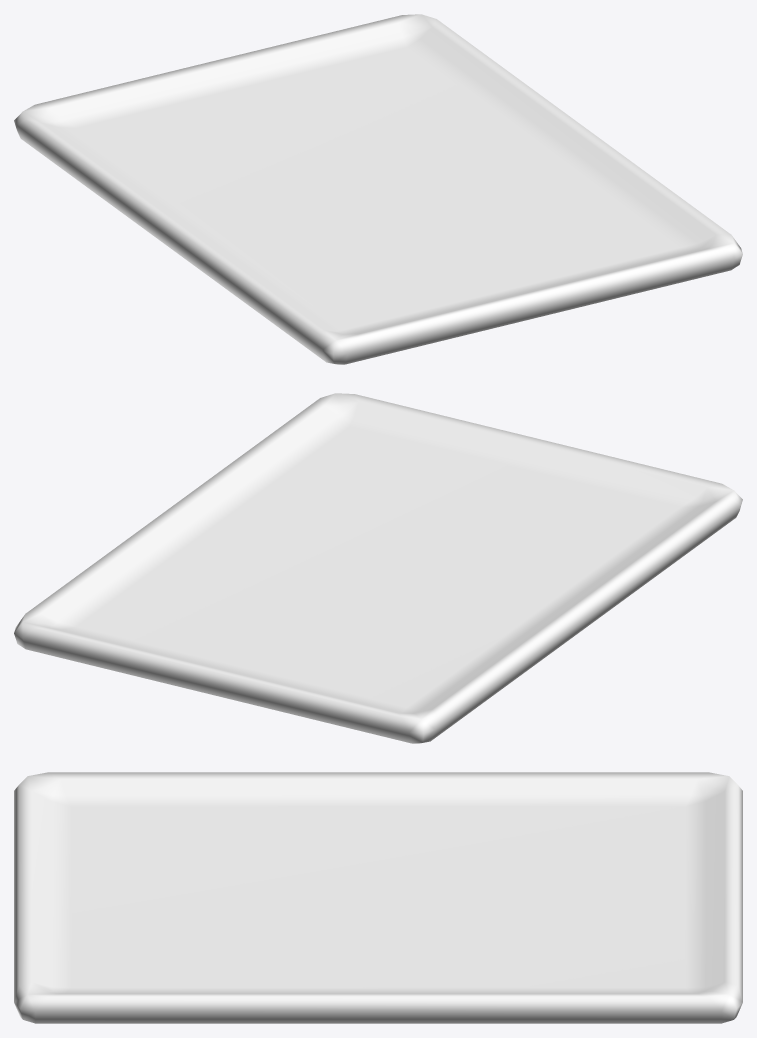
Rendered from SM_cake_plate_square.glb.
The picture shows the model from 3 angles, top to bottom: view 1: azimuth 30°, elevation 25°; view 2: azimuth 150°, elevation 25°; view 3: azimuth 270°, elevation 25°; orthographic projection. The views are drawn at different scales.
Parts seen in each view (by area): view 1: SM_cake_plate_square; view 2: SM_cake_plate_square; view 3: SM_cake_plate_square.
Part boxes in pixels (x1,y1,x2,y2): SM_cake_plate_square: (14, 14, 742, 364); SM_cake_plate_square: (14, 393, 742, 743); SM_cake_plate_square: (14, 772, 742, 1023).
Bounding box in the file's own units: 0.3862 × 0.0252 × 0.5181.
Materials: 1 (1 with a texture image).
